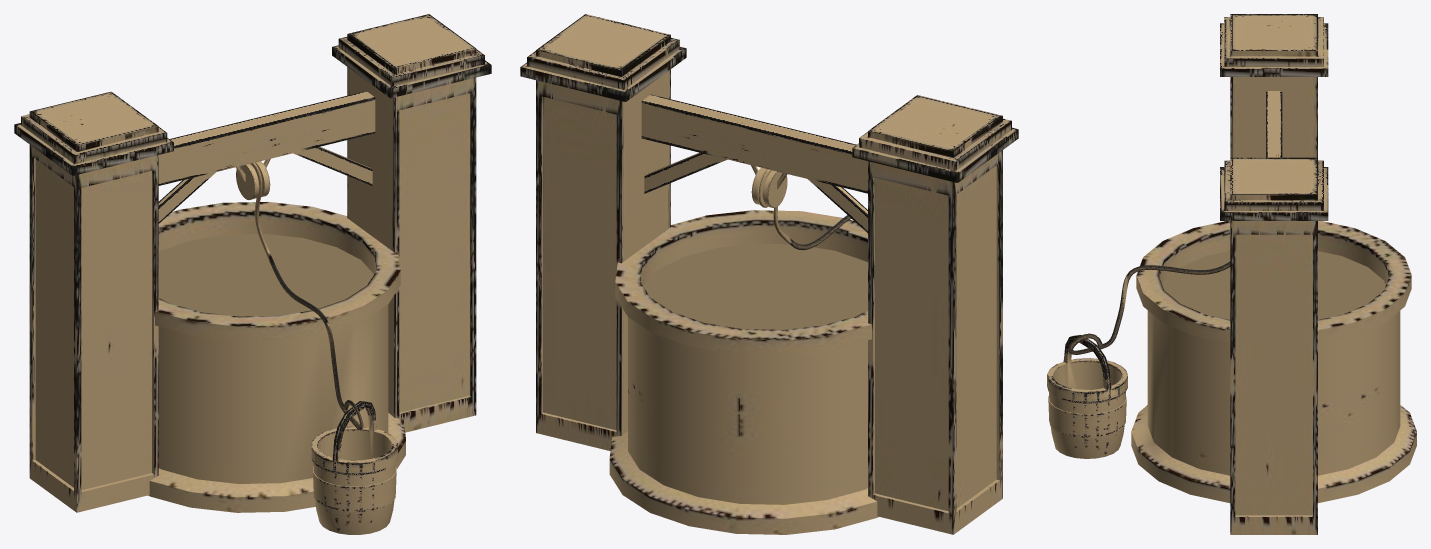
Rendered from pozo.fbx.
3 views of the same model, side by side, from view 1: azimuth 30°, elevation 25°; view 2: azimuth 150°, elevation 25°; view 3: azimuth 270°, elevation 25° (orthographic). The views are drawn at different scales.
Visible parts, largest first — view 1: Cube.007, Cylinder.002, Cube.008, LLENO, Cube.006, Cylinder.001, Cube.005, BézierCurve, Cylinder.003; view 2: Cylinder.002, Cube.007, Cube.008, LLENO, Cube.006, Cube.005, Cylinder.003, BézierCurve; view 3: Cylinder.002, Cube.008, Cube.007, Cylinder.001, LLENO, BézierCurve, Cube.006.
Boxes of the visible parts, box(x1,y1,x2,y2) form: Cube.007: box(14, 91, 173, 512); Cylinder.002: box(148, 201, 405, 512); Cube.008: box(332, 14, 491, 432); LLENO: box(158, 234, 373, 316); Cube.006: box(158, 91, 375, 185); Cylinder.001: box(311, 401, 397, 534); Cube.005: box(158, 147, 372, 223); BézierCurve: box(250, 162, 363, 430); Cylinder.003: box(236, 161, 270, 199); Cylinder.002: box(609, 210, 878, 534); Cube.007: box(852, 95, 1018, 534); Cube.008: box(520, 14, 686, 450); LLENO: box(643, 243, 867, 329); Cube.006: box(641, 94, 867, 193); Cube.005: box(644, 152, 867, 232); Cylinder.003: box(751, 167, 787, 207); BézierCurve: box(758, 169, 851, 250); Cylinder.002: box(1131, 221, 1416, 503); Cube.008: box(1220, 157, 1328, 534); Cube.007: box(1220, 14, 1328, 157); Cylinder.001: box(1047, 335, 1127, 458); LLENO: box(1162, 251, 1385, 319); BézierCurve: box(1068, 261, 1230, 354); Cube.006: box(1266, 91, 1282, 157).
Size of the model in its own units: 366 by 307 by 302.
Materials: 1 (1 with a texture image).
